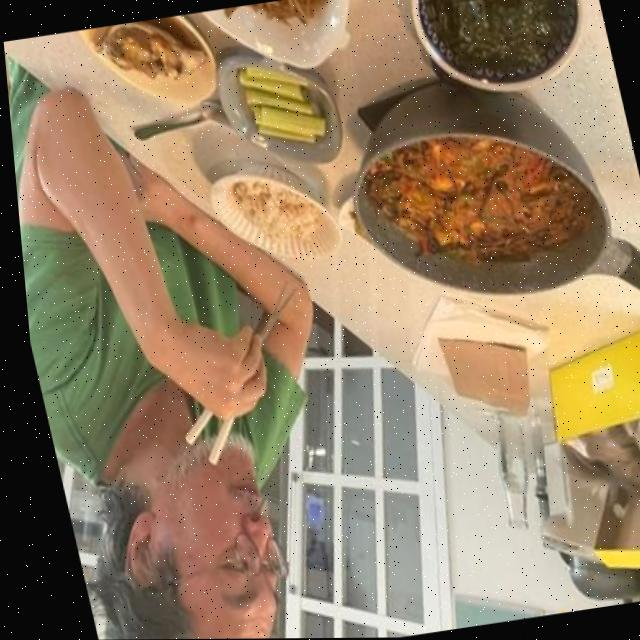eating-person: (0, 0, 427, 640)
